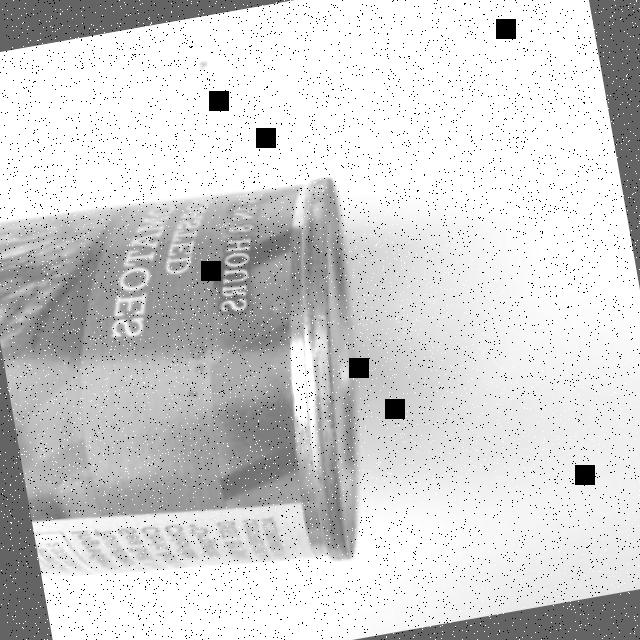can: (0, 158, 402, 619)
